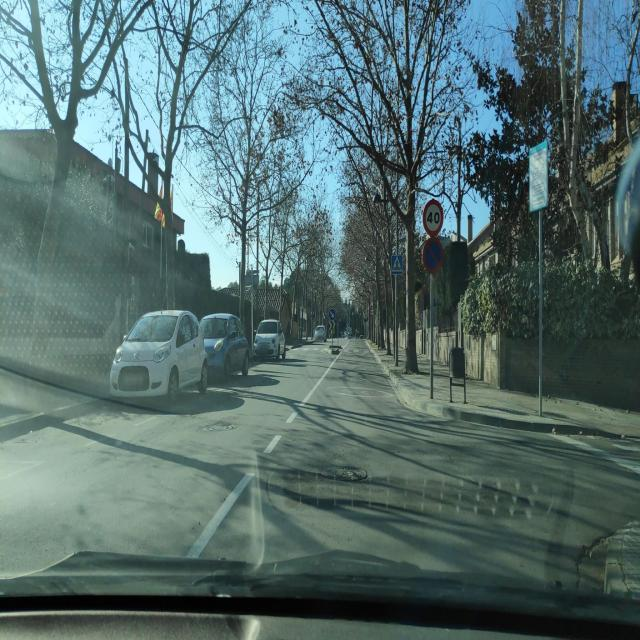forb_stopping: (422, 236, 444, 276)
